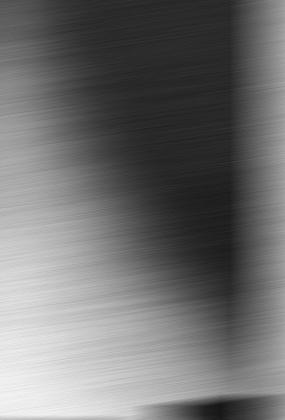Airbag: (0, 1, 285, 419), (263, 2, 285, 420)
